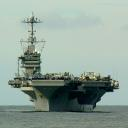Portanaves: (8, 10, 124, 116)
